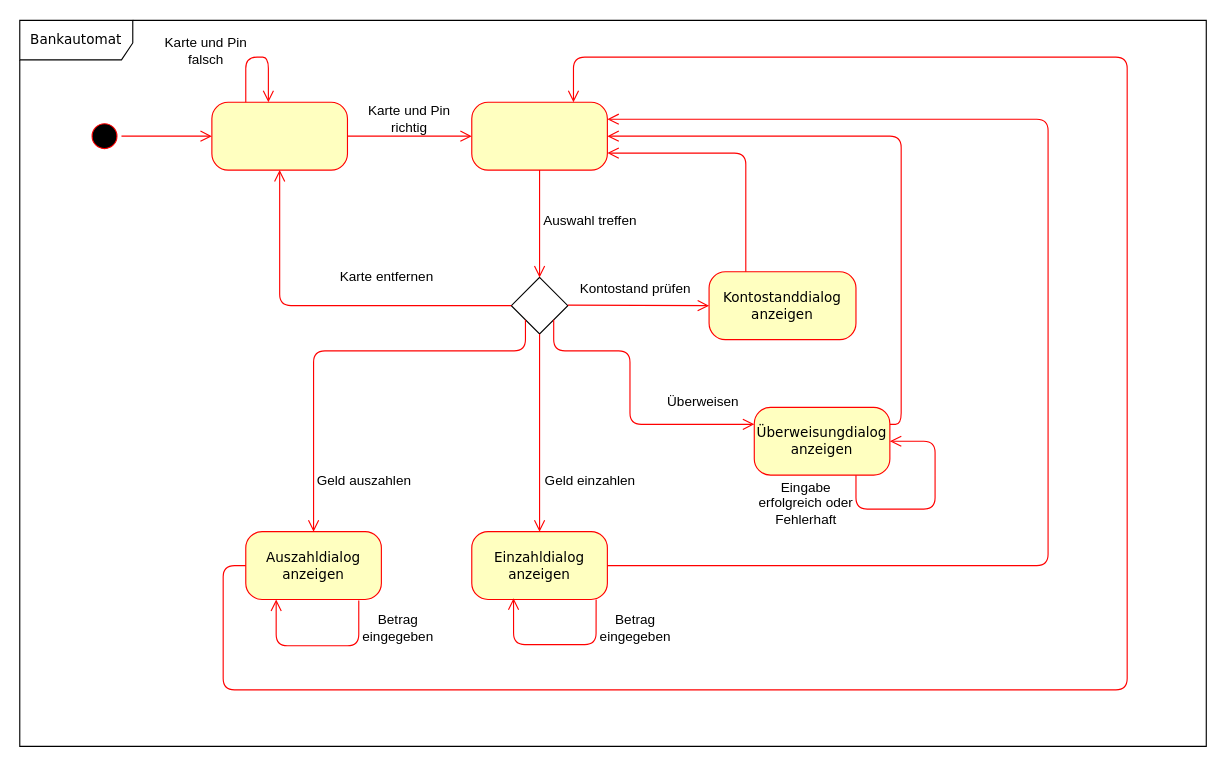
Image size: 1226x766. Some labels were removed from this diagram. The shapes that lost their labels are listed below. From the top down, each one's box as (x1, y1, x2, y2) in pixels, then its label:
(211, 101, 347, 170): Betriebsbereit
(471, 101, 607, 170): Auf Eingabe warten
